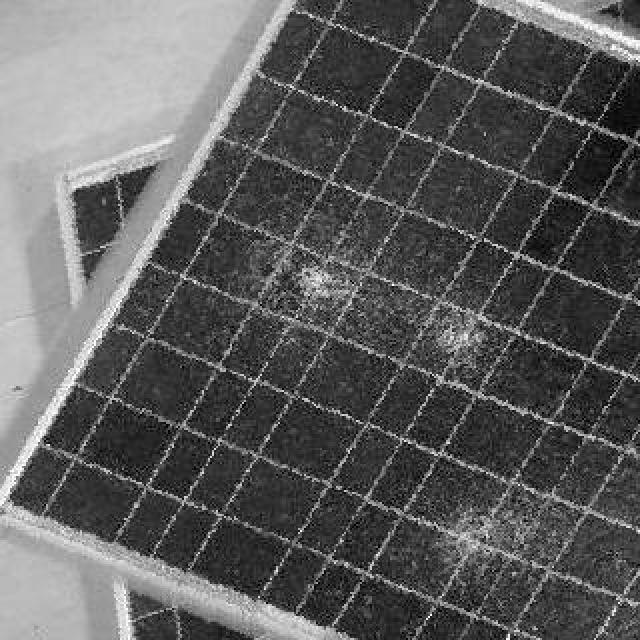Physical-damage: (248, 217, 362, 317), (450, 498, 560, 590), (415, 295, 497, 373)
